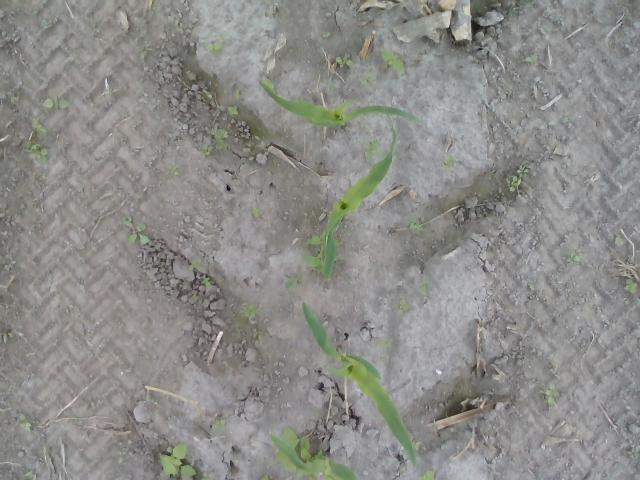Maize: (301, 302, 419, 466), (321, 124, 397, 281), (256, 77, 424, 129), (268, 430, 361, 480)
Weeds: (158, 443, 215, 480), (277, 425, 310, 476), (121, 214, 151, 246), (378, 46, 407, 76), (505, 158, 529, 192), (201, 128, 229, 156), (363, 136, 386, 162), (22, 142, 49, 162), (280, 270, 304, 290), (207, 32, 225, 56), (29, 116, 49, 137), (544, 383, 562, 406), (361, 63, 376, 90), (303, 250, 321, 272), (44, 96, 71, 110), (416, 278, 434, 298), (406, 214, 424, 234), (239, 302, 257, 320), (606, 230, 625, 246), (335, 53, 354, 69), (304, 232, 322, 248), (440, 153, 456, 170), (622, 278, 638, 294), (398, 300, 412, 318), (20, 414, 33, 433), (212, 416, 226, 433), (166, 162, 183, 176), (140, 46, 154, 62), (226, 104, 242, 118), (418, 469, 438, 480), (175, 22, 192, 34), (118, 447, 130, 464), (376, 338, 394, 349), (249, 206, 263, 220), (196, 89, 213, 100), (627, 446, 640, 460), (567, 255, 585, 264), (22, 470, 38, 480), (231, 320, 240, 336), (254, 134, 266, 146), (527, 52, 539, 64), (200, 274, 210, 287), (175, 78, 188, 88), (0, 96, 16, 104), (258, 472, 272, 480), (313, 450, 325, 459), (191, 260, 201, 270), (40, 19, 49, 30), (235, 88, 241, 104), (0, 331, 16, 337), (488, 168, 497, 178), (358, 122, 368, 129), (106, 88, 113, 96)
